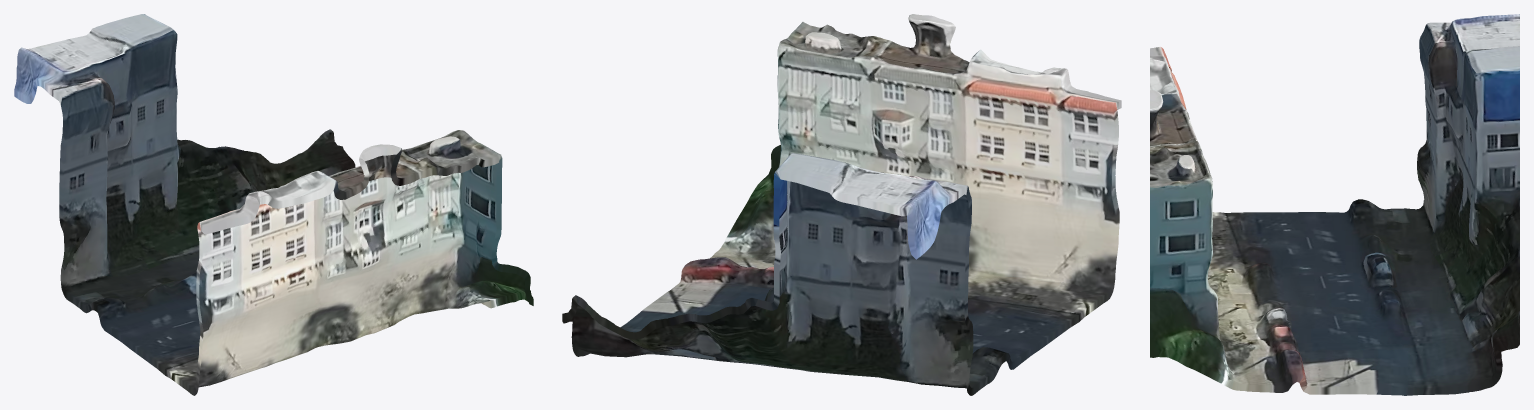
Rendered from z20-167719-405194-h0-yup-uvflip-v3-world.glb.
The picture shows the model from 3 angles, left to right: view 1: azimuth 30°, elevation 25°; view 2: azimuth 150°, elevation 25°; view 3: azimuth 270°, elevation 25°; orthographic projection. The views are drawn at different scales.
Size of the model in its own units: 30.16 by 21.16 by 30.32.
1 material, 1 textured.
